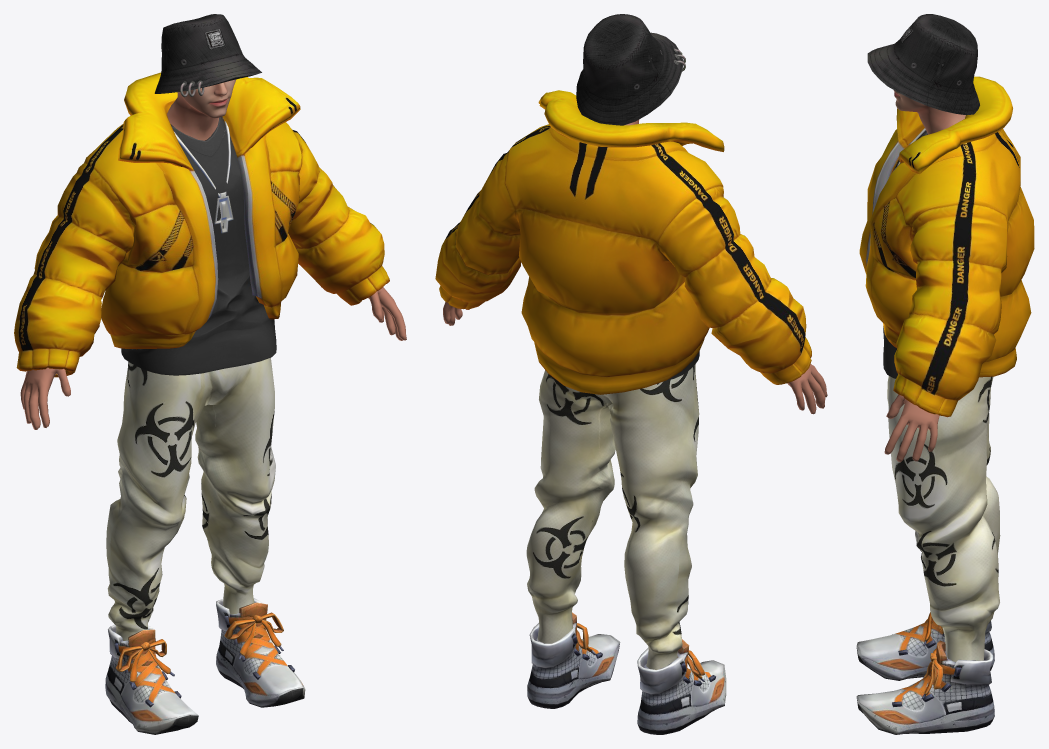
Rendered from character_male_sci-fi.gltf.
3 renders of one model, left to right at view 1: azimuth 30°, elevation 25°; view 2: azimuth 150°, elevation 25°; view 3: azimuth 270°, elevation 25°, orthographic.
Visible parts, largest first — view 1: GLTF_created_0; view 2: GLTF_created_0; view 3: GLTF_created_0.
Part boxes in pixels (x1,y1,x2,y2): GLTF_created_0: [14, 14, 406, 734]; GLTF_created_0: [435, 14, 827, 734]; GLTF_created_0: [856, 14, 1034, 734].
Bounding box in the file's own units: 1.06 × 1.86 × 0.4432.
Materials: 8 (8 with a texture image).
